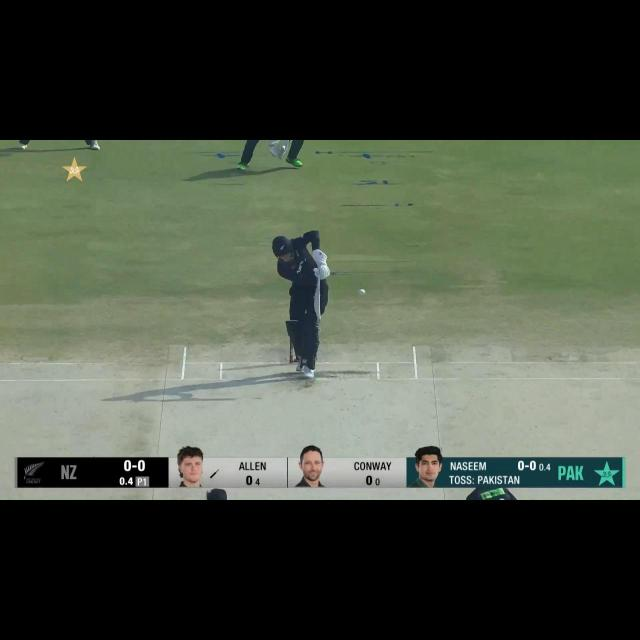bat: (313, 275, 322, 322)
toe: (312, 312, 322, 322)
